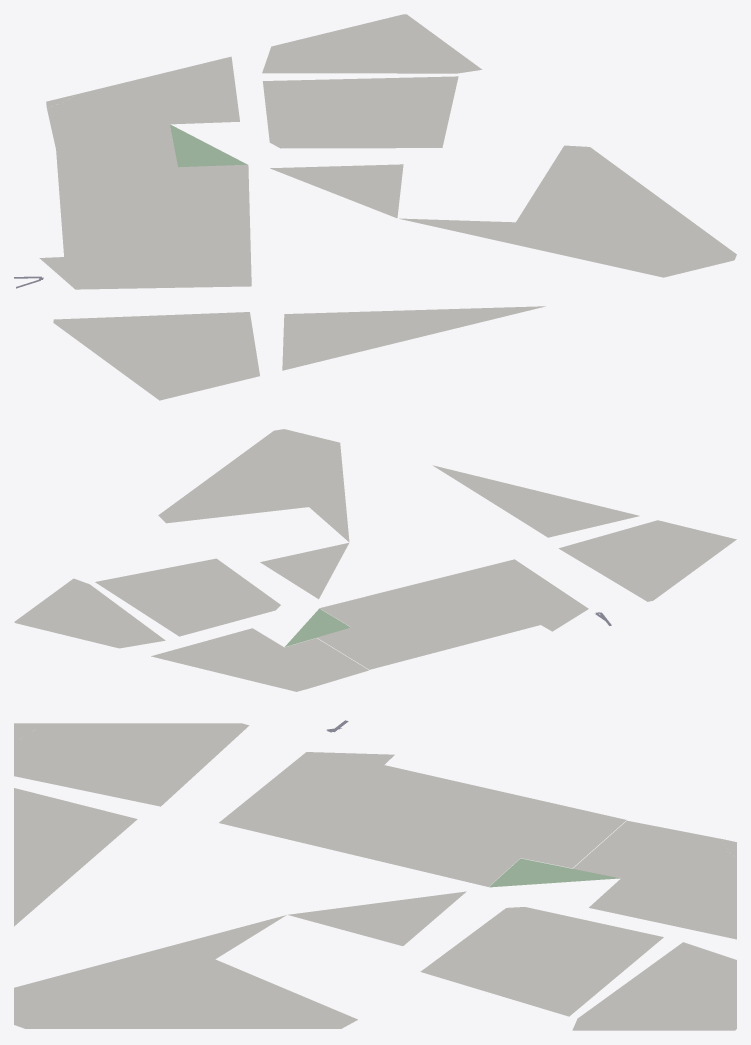
The model's file is 106_96_mid.glb.
3 views of the same model, one above another, from view 1: azimuth 30°, elevation 25°; view 2: azimuth 150°, elevation 25°; view 3: azimuth 270°, elevation 25° (orthographic). The views are drawn at different scales.
Size of the model in its own units: 500 by 7.32 by 500.
